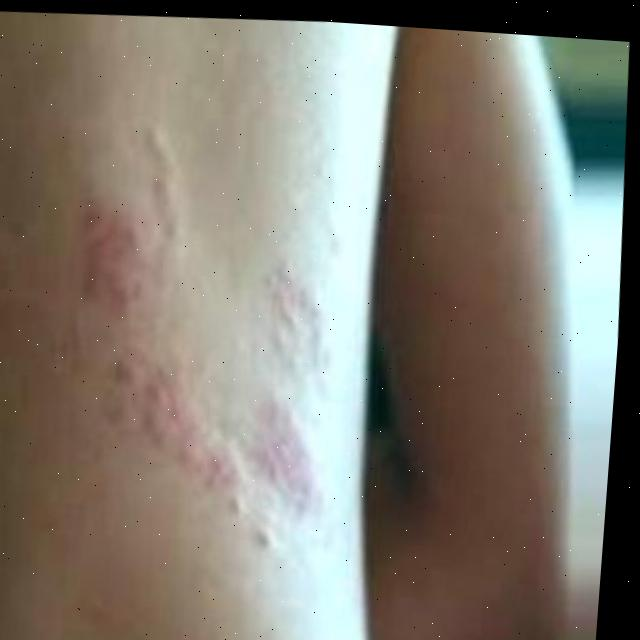Shingles: (56, 185, 352, 546)
